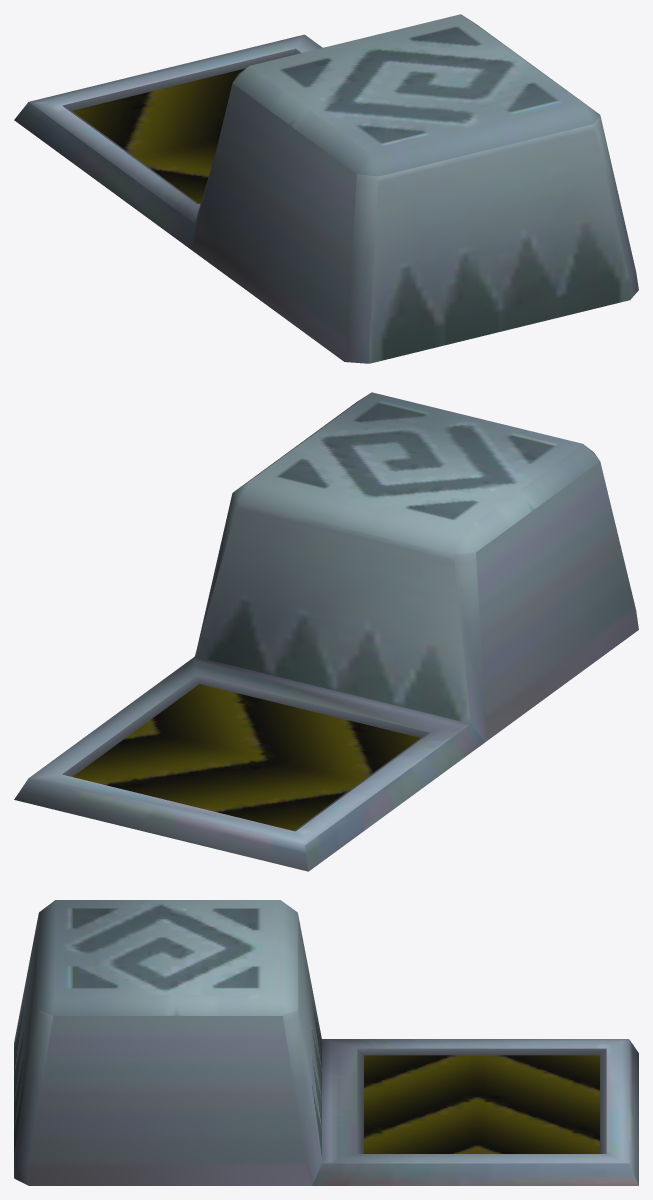
The model's file is [GIMMICK]push_accel_R.fbx.
3 views of the same model, one above another, from view 1: azimuth 30°, elevation 25°; view 2: azimuth 150°, elevation 25°; view 3: azimuth 270°, elevation 25° (orthographic). The views are drawn at different scales.
Parts seen in each view (by area): view 1: push_accel_R, glow; view 2: push_accel_R, glow; view 3: push_accel_R, glow.
Boxes of the visible parts, x1,y1,x2,y2 form: push_accel_R: (14, 14, 638, 363); glow: (72, 68, 245, 203); push_accel_R: (14, 392, 638, 871); glow: (73, 684, 420, 830); push_accel_R: (14, 900, 638, 1185); glow: (364, 1055, 599, 1153).
Size of the model in its own units: 1.01 by 0.6087 by 2.
Materials: 2 (2 with a texture image).
